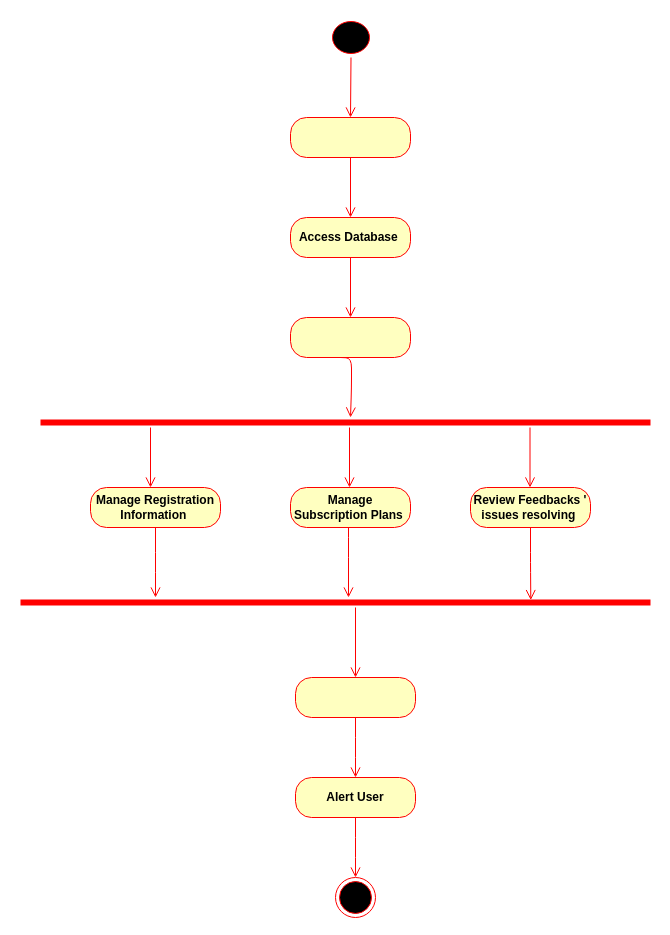
The diagram is 670 pixels wide and 935 high, and some of its shapes have lost their labels. The centre of each missing label's shape, as x and y in pixels:
"Access User information" goes at point 350,337.
"Confirm" goes at point 355,697.
"Sign in successfully" goes at point 350,137.
